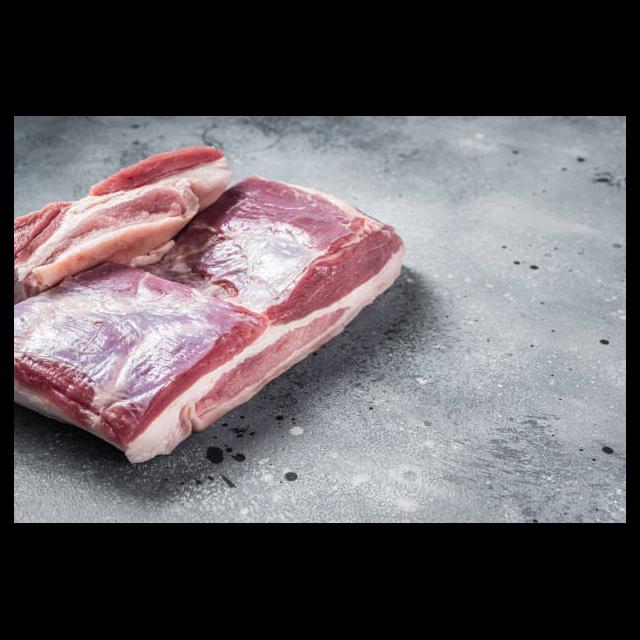pork: (14, 281, 245, 465), (191, 173, 404, 354)
